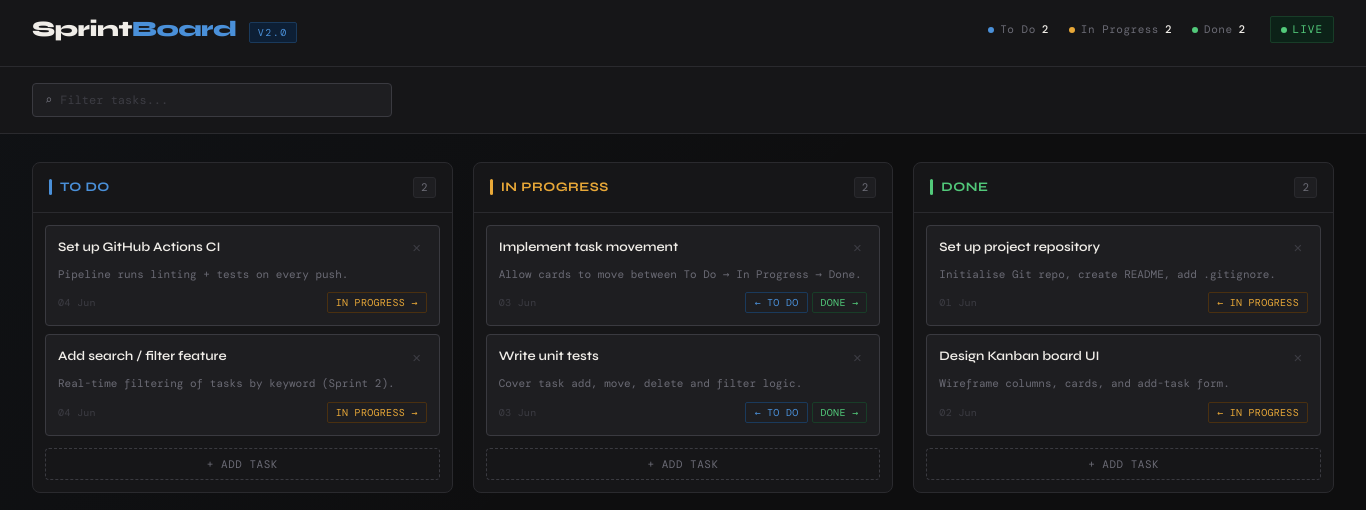
Test: App › shows no-results message when no tasks match
Type "zzznomatch999" into the field with placeholder "Filter tasks..." at (220, 100), box [60,92,379,108]
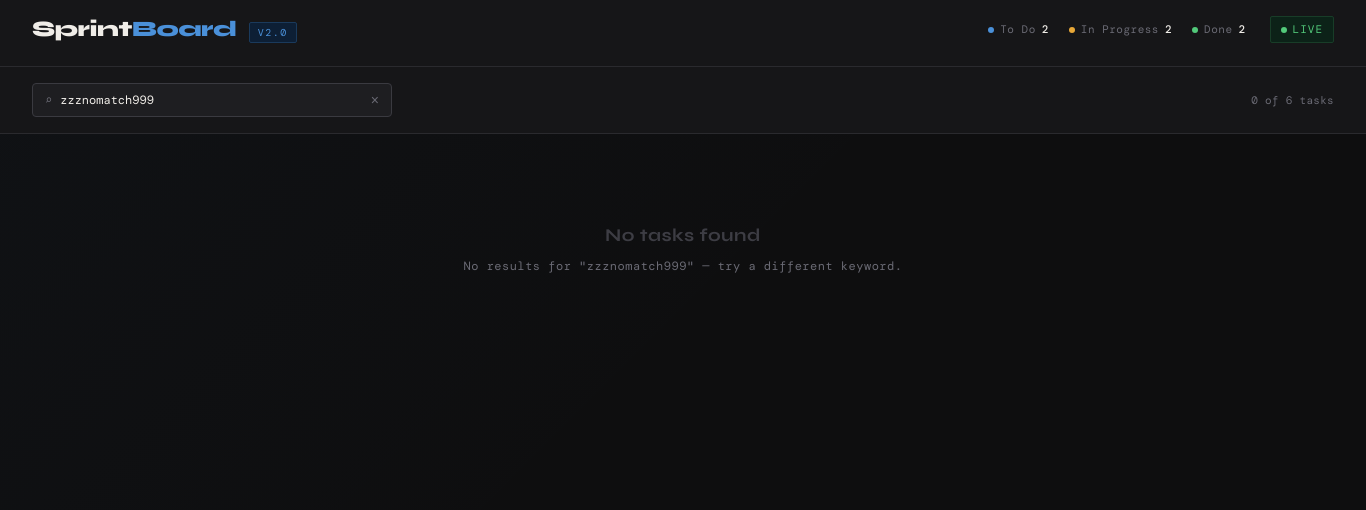
Expected: the text "No tasks found" is shown, [605,224,761,246]
